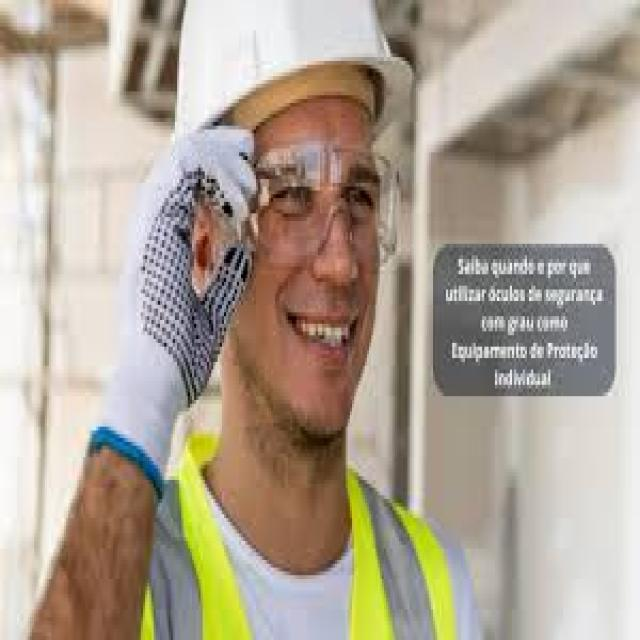oculos-epi: (250, 145, 407, 285)
